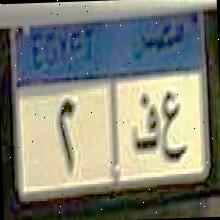2: (56, 94, 80, 174)
ain: (158, 87, 188, 168)
faa: (129, 90, 160, 158)
